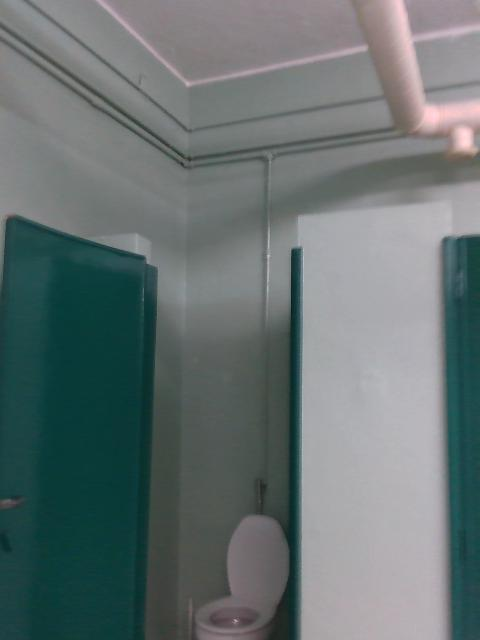open_door: (134, 214, 304, 639)
